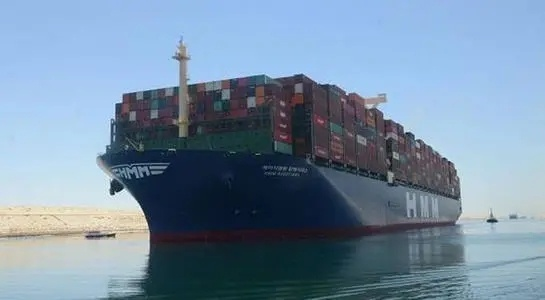Cargoship: (96, 41, 466, 240)
